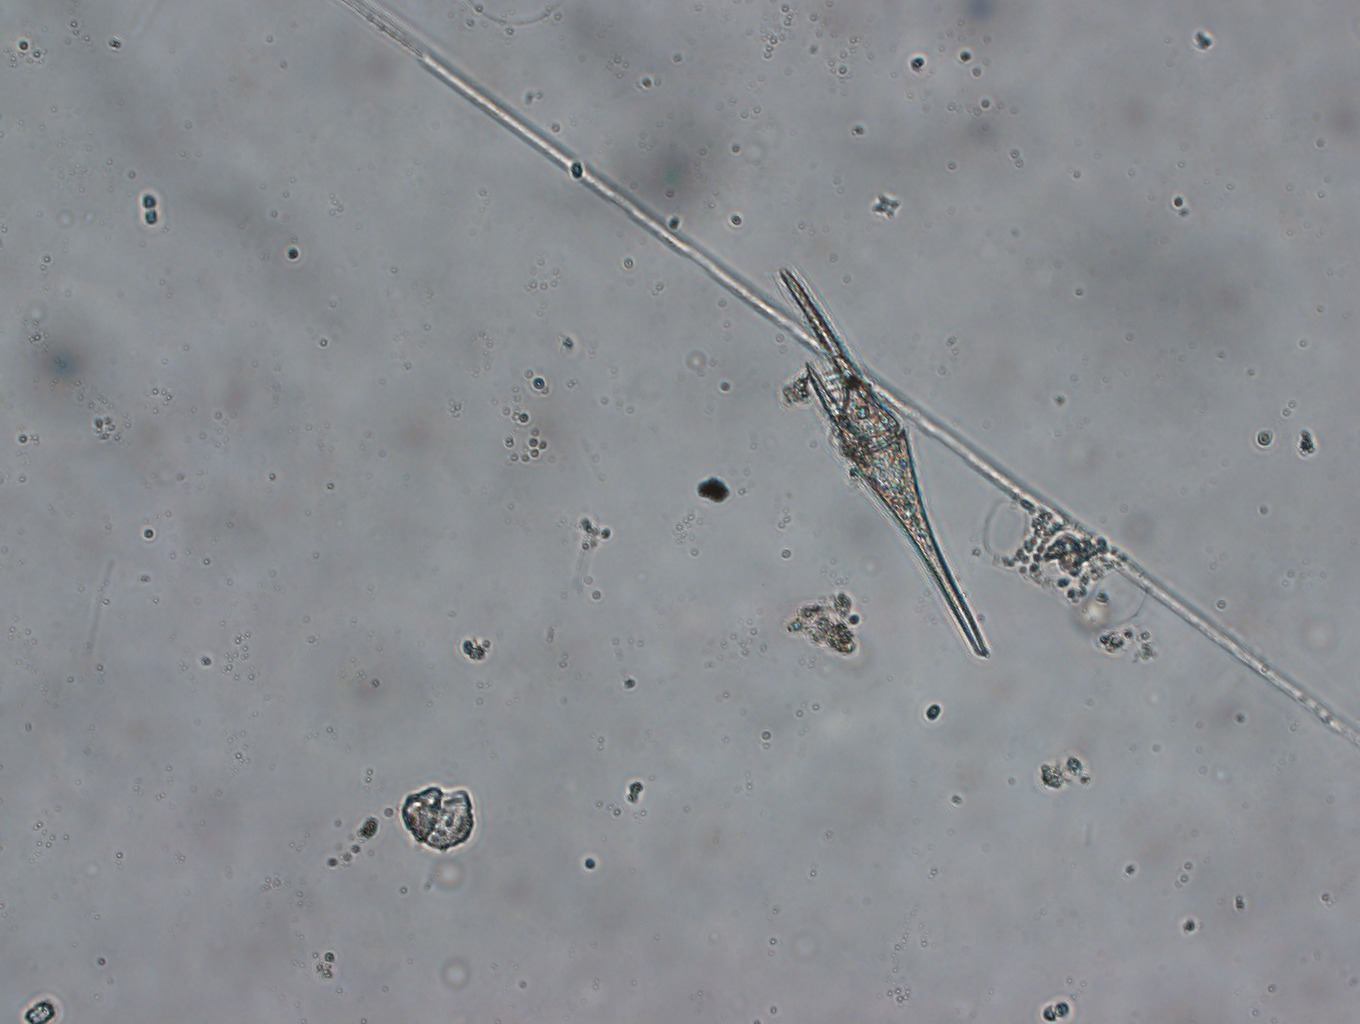ceratium furca: (772, 264, 989, 662)
